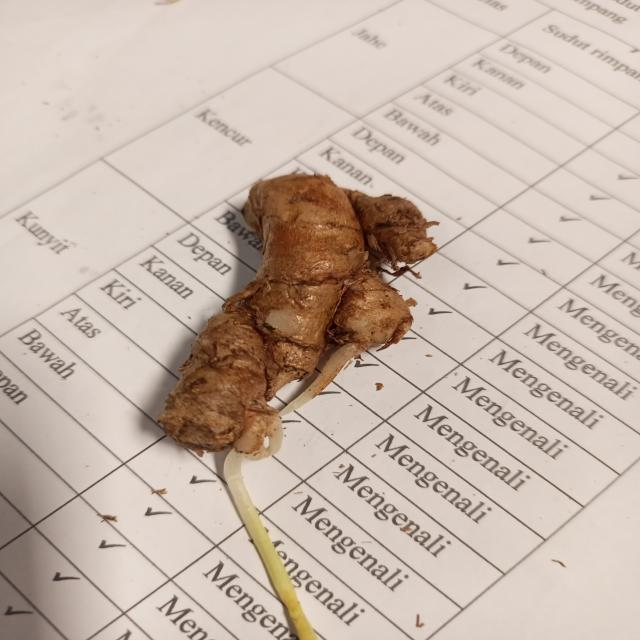ginger: (171, 170, 420, 436)
